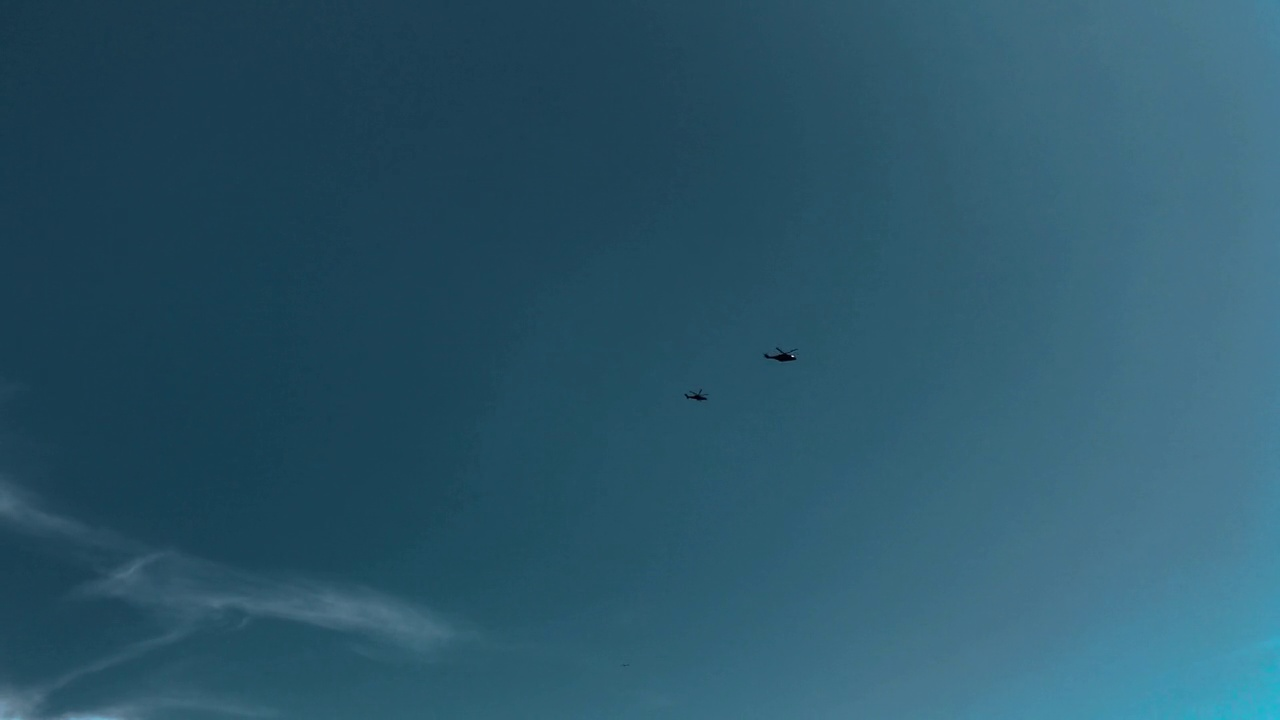heli: (763, 346, 799, 364), (684, 388, 708, 403)
